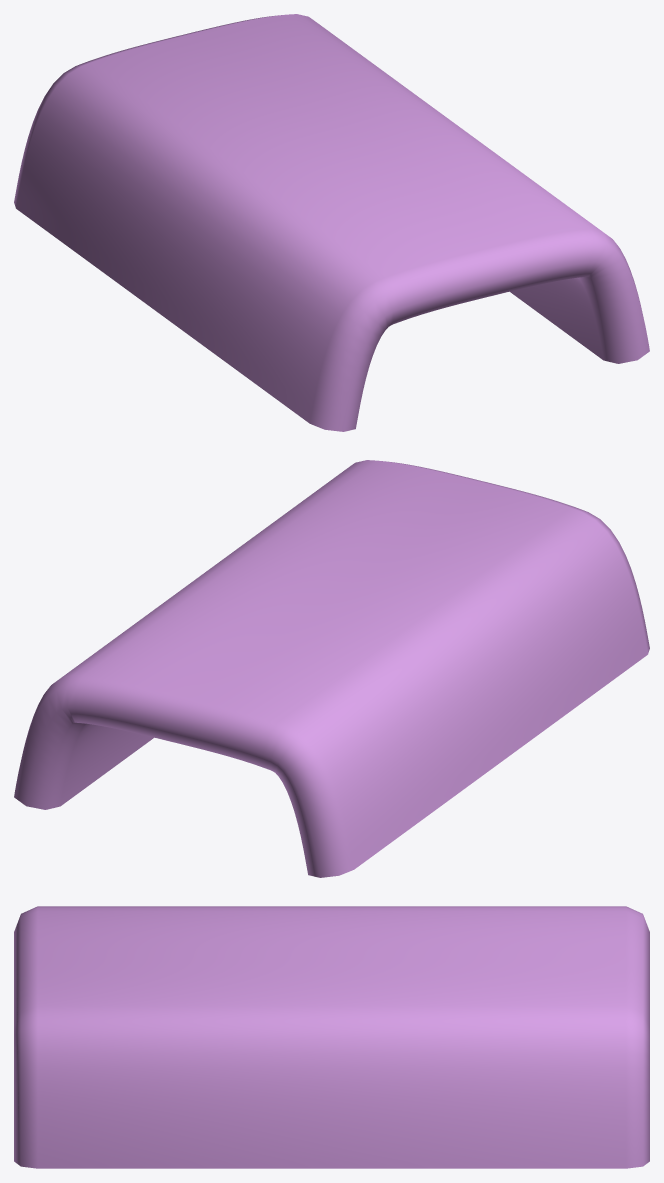
Rendered from Tunnel.fbx.
The picture shows the model from 3 angles, top to bottom: view 1: azimuth 30°, elevation 25°; view 2: azimuth 150°, elevation 25°; view 3: azimuth 270°, elevation 25°; orthographic projection.
Parts seen in each view (by area): view 1: Tunnel; view 2: Tunnel; view 3: Tunnel.
Part boxes in pixels (left/top/right/bottom): Tunnel: left=14, top=14, right=649, bottom=431; Tunnel: left=14, top=460, right=649, bottom=877; Tunnel: left=14, top=906, right=649, bottom=1168.
Size of the model in its own units: 751 by 300 by 1222.
